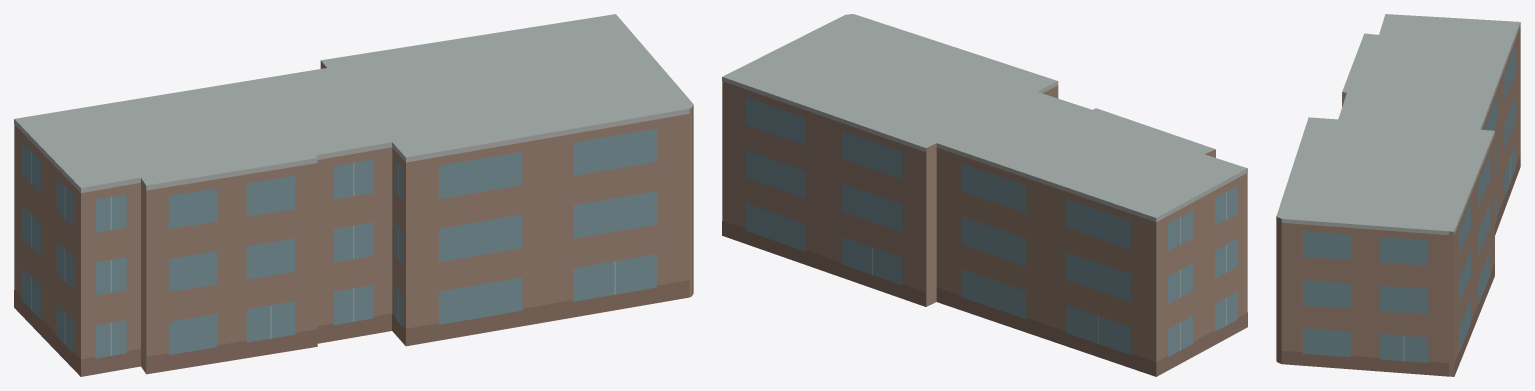
File: survey-upis-32990755.glb
3 views of the same model, side by side, from view 1: azimuth 30°, elevation 25°; view 2: azimuth 150°, elevation 25°; view 3: azimuth 270°, elevation 25° (orthographic). The views are drawn at different scales.
Visible parts, largest first — view 1: survey-upis-32990755.tmp; view 2: survey-upis-32990755.tmp; view 3: survey-upis-32990755.tmp.
Boxes of the visible parts, x1,y1,x2,y2 form: survey-upis-32990755.tmp: (14, 14, 693, 376); survey-upis-32990755.tmp: (722, 14, 1247, 376); survey-upis-32990755.tmp: (1276, 14, 1520, 376).
Size of the model in its own units: 29.42 by 9.15 by 13.94.
